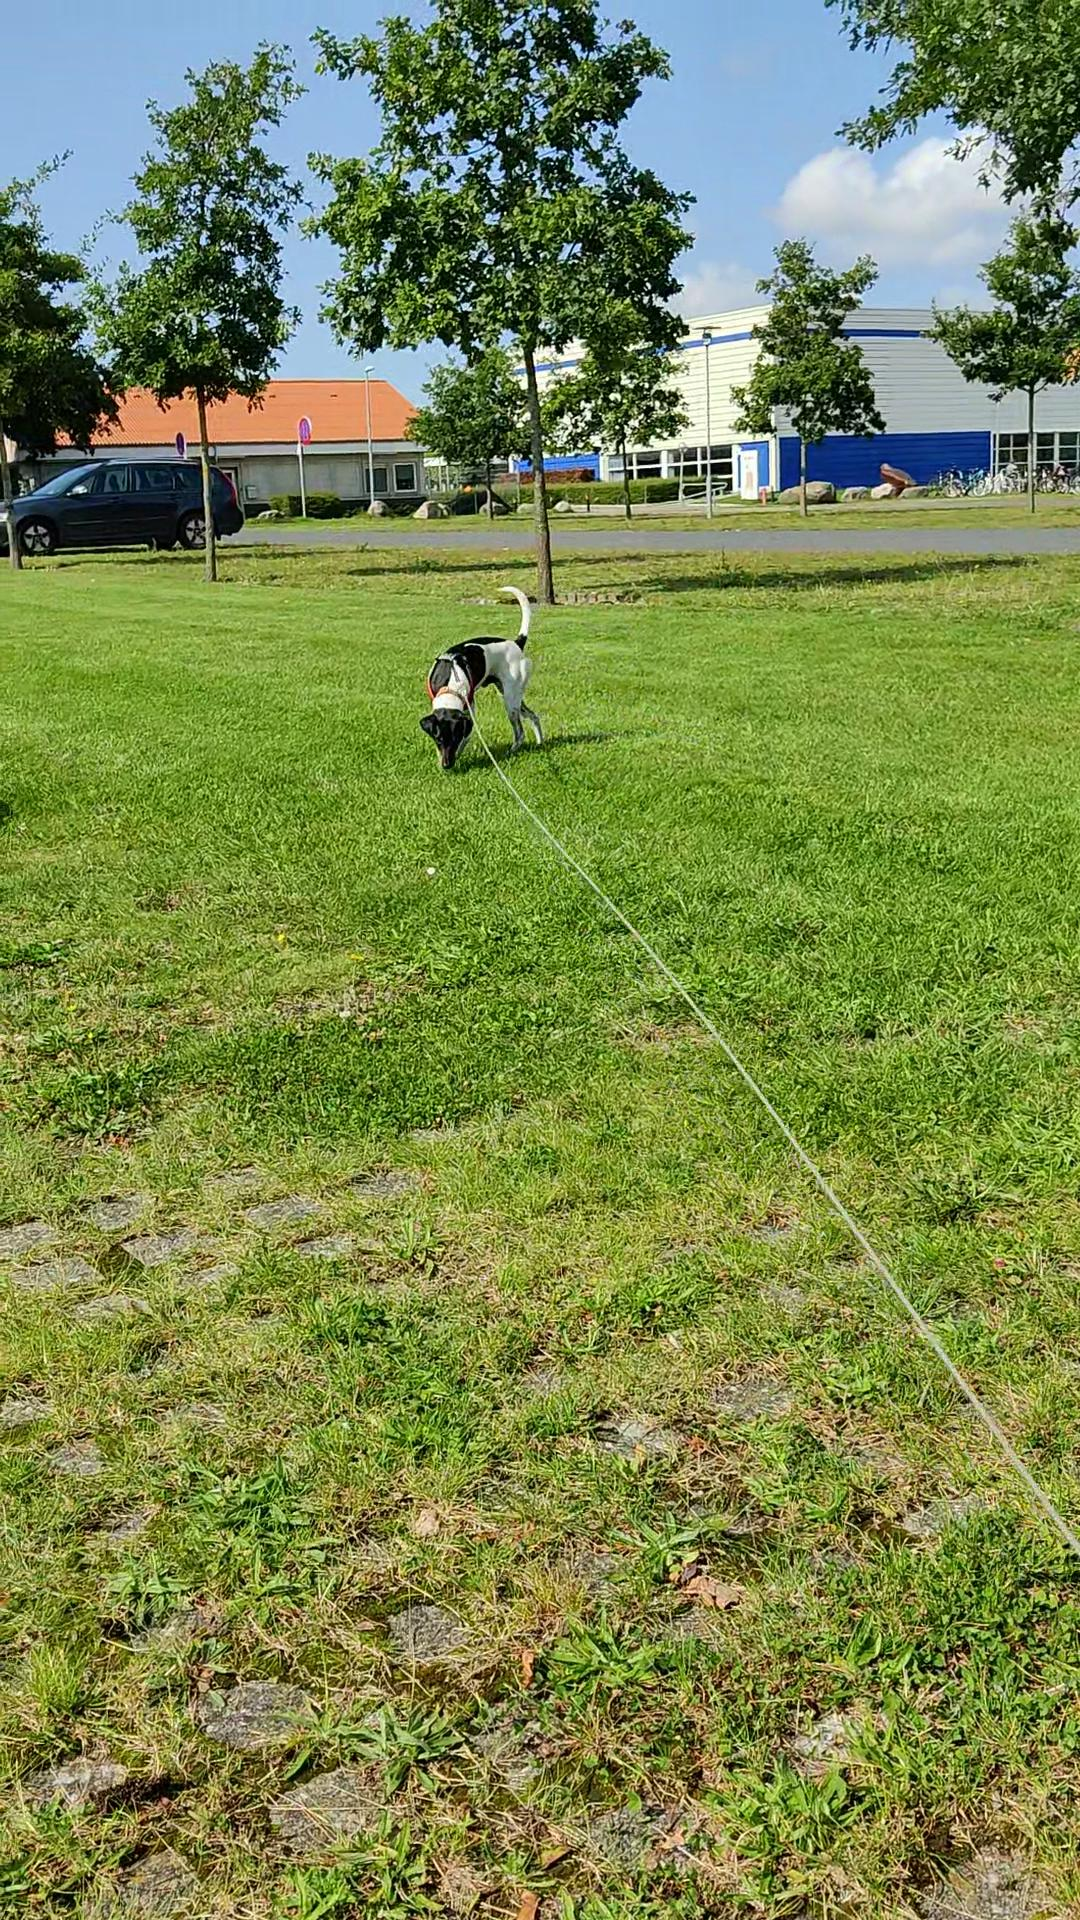Dog: (394, 576, 567, 779)
